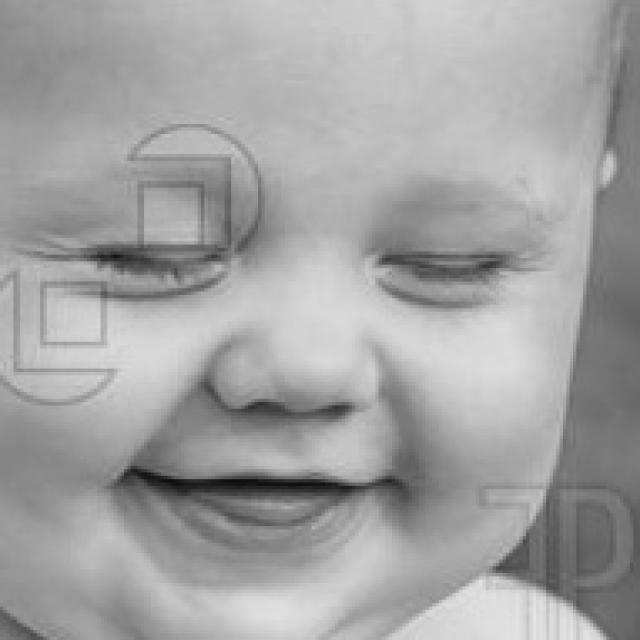real: (3, 0, 615, 640), (23, 196, 528, 320)
